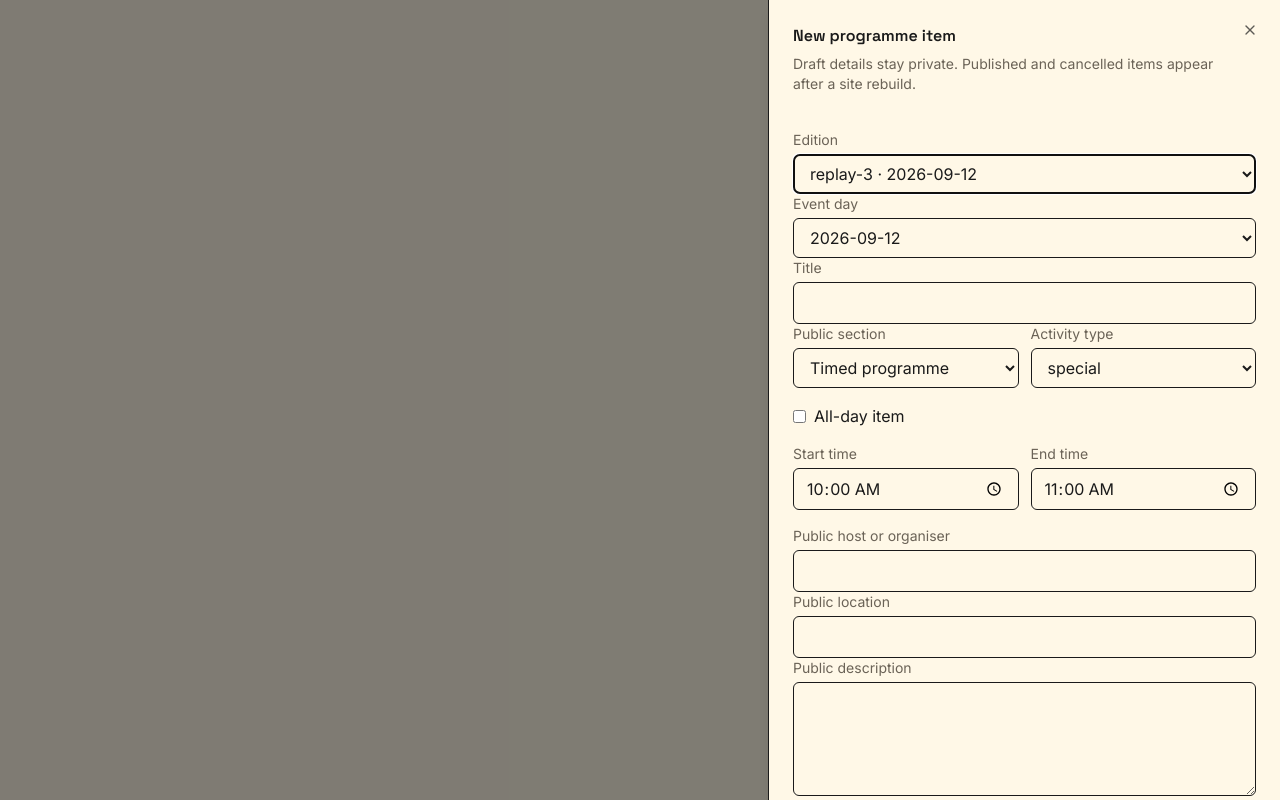
creates an all-day draft without sending fake times and offers a rebuild
The image size is (1280, 800).
In the field labelled "Title": (1024, 303) x1=793 y1=282 x2=1256 y2=324, type "Open board games"
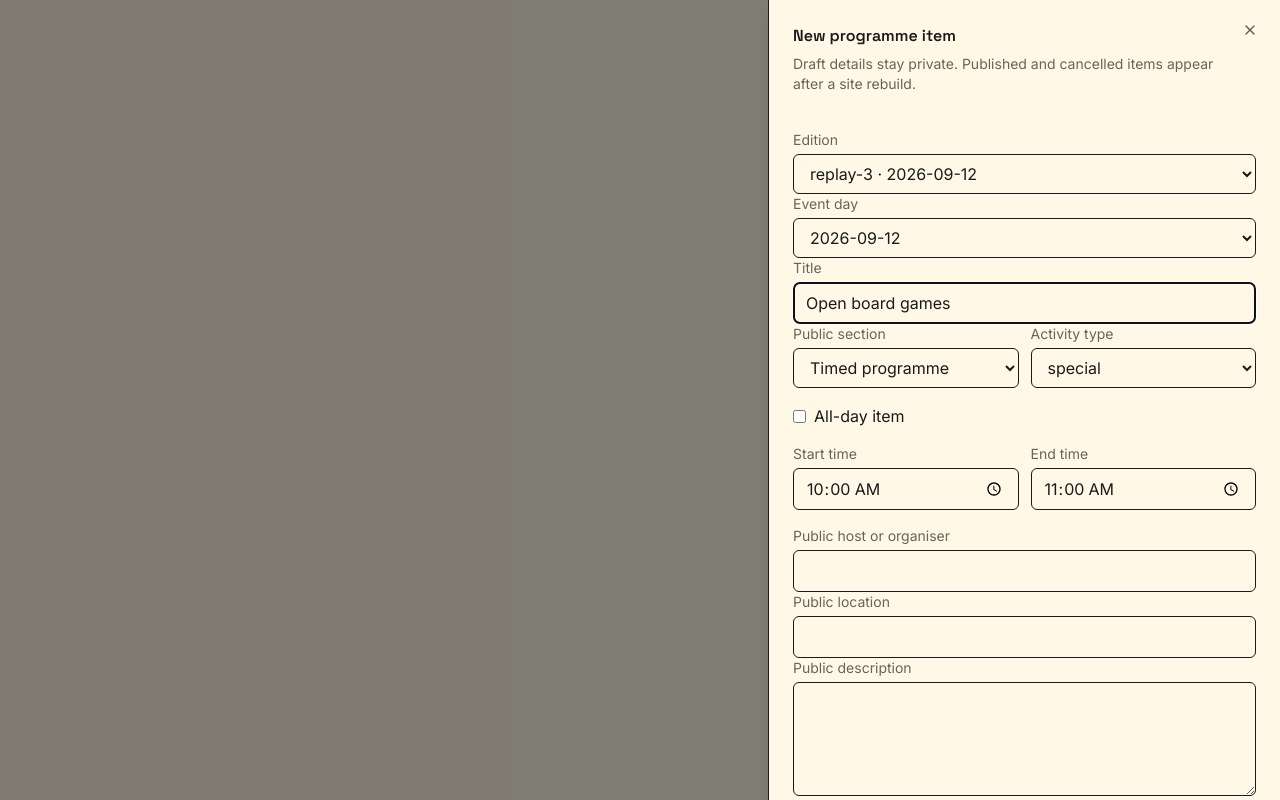
Select "Explore all day" in the dropdown labelled "Public section": (906, 368) x1=793 y1=348 x2=1018 y2=388
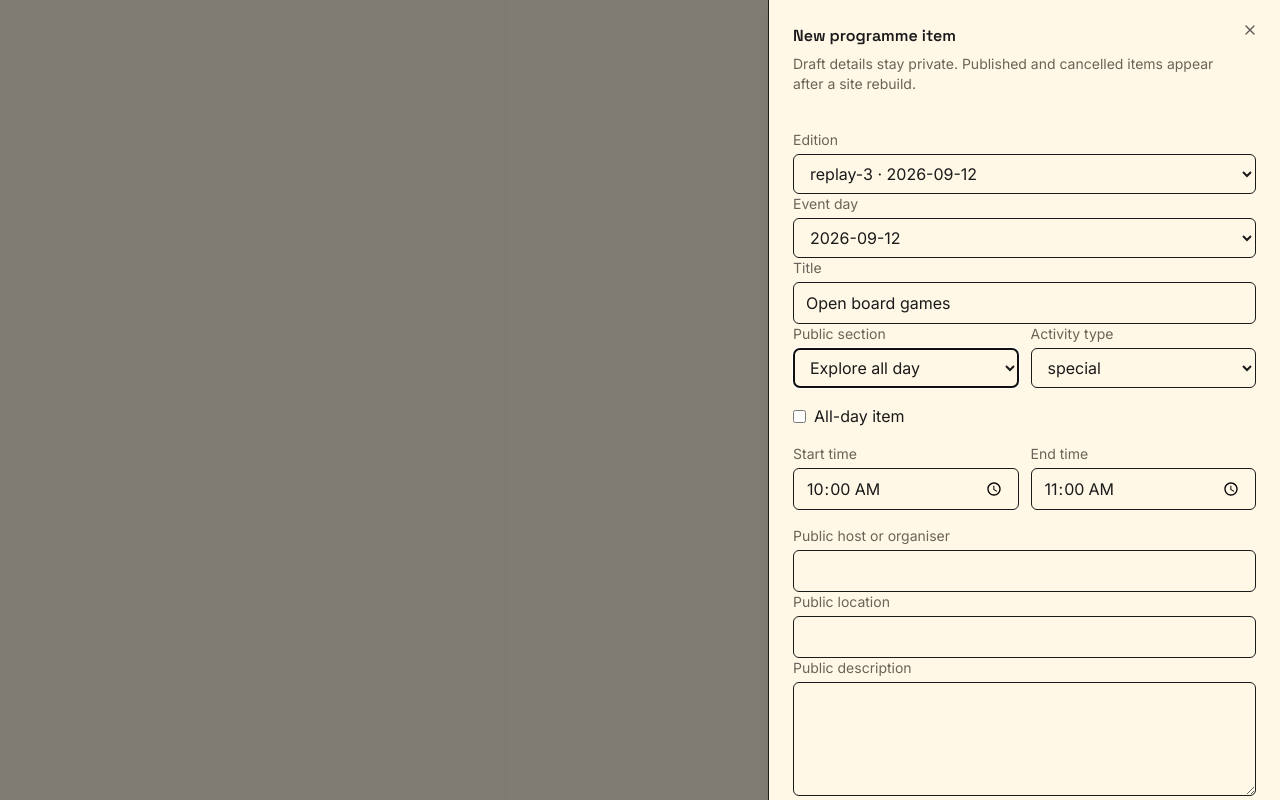
Select "open-play" in the dropdown labelled "Activity type": (1143, 368) x1=1030 y1=348 x2=1256 y2=388
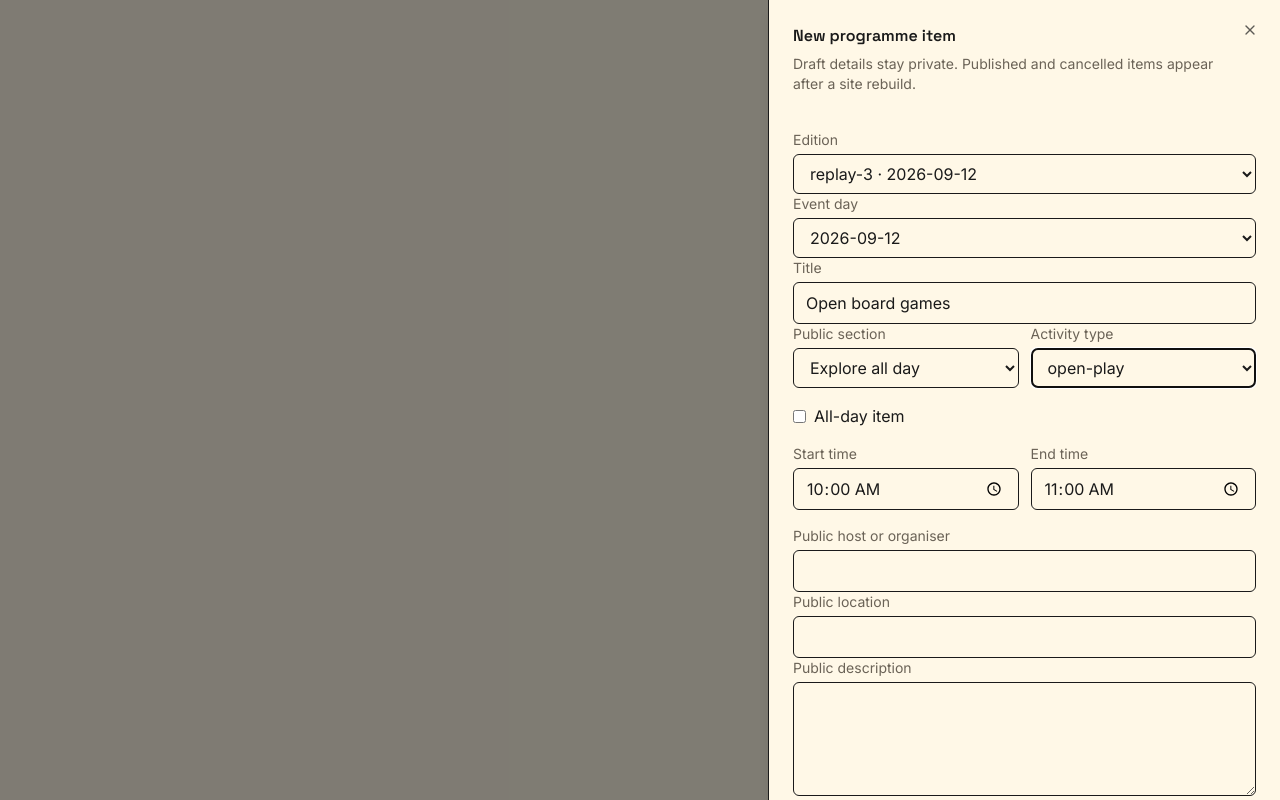
Click the checkbox labelled "All-day item": (800, 416) x1=793 y1=410 x2=806 y2=422
(page scrolled)
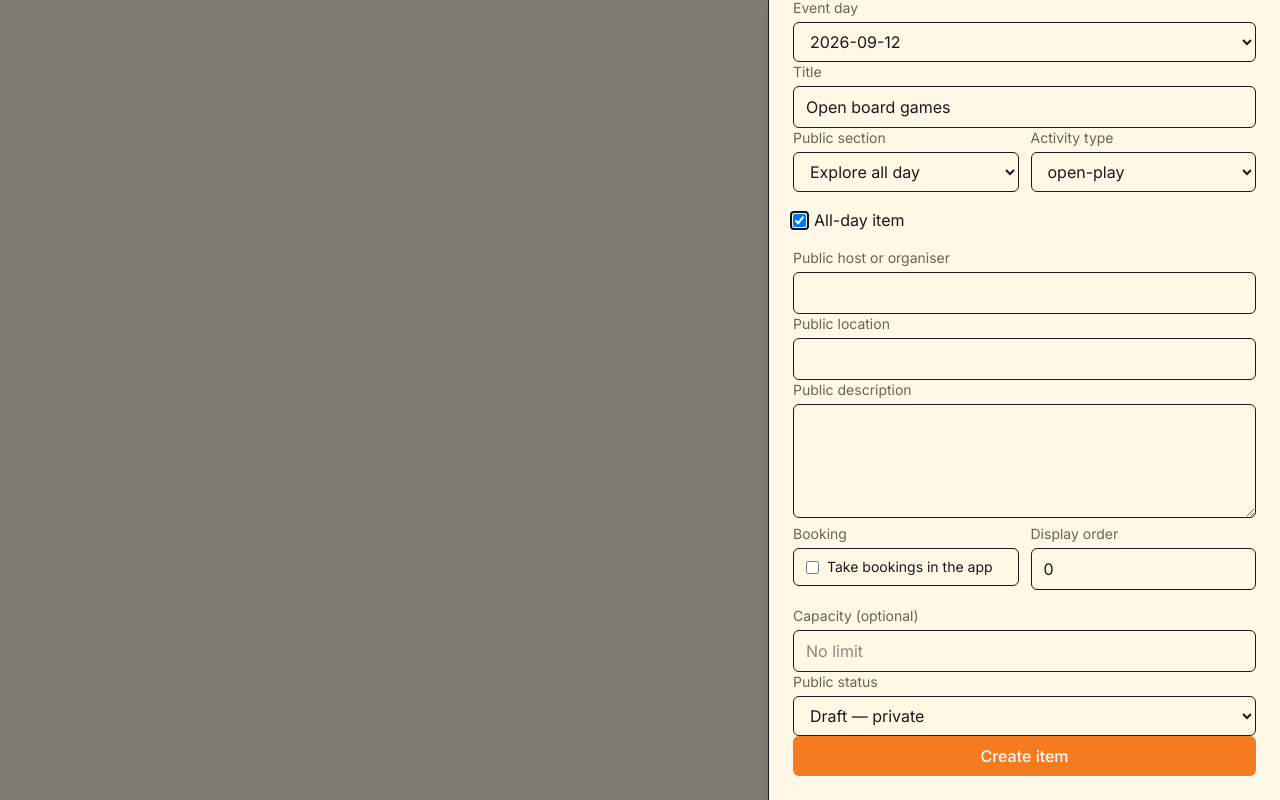
Check: the text labelled "Start time" is gone
Click the button "Create item": (1024, 756) x1=793 y1=736 x2=1256 y2=776
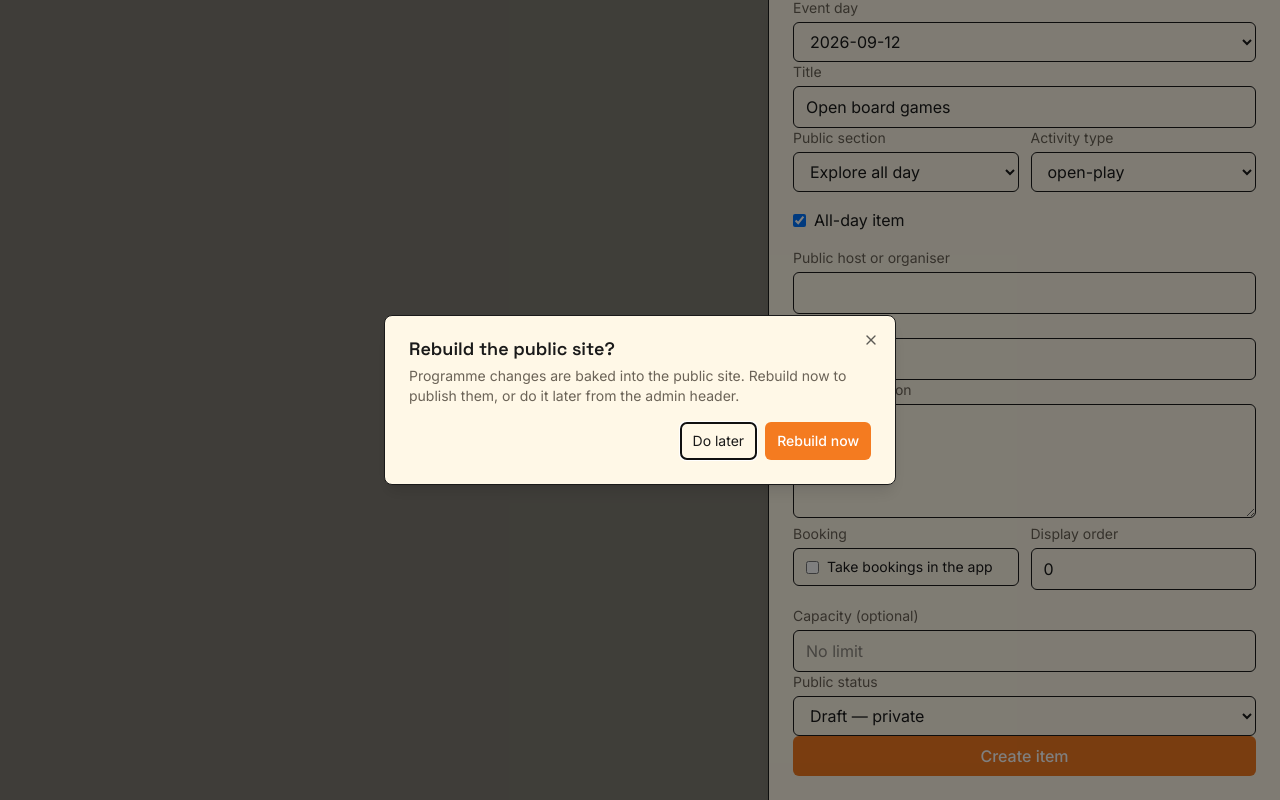
Check: the heading "Rebuild the public site?" is shown, box x1=409 y1=337 x2=615 y2=360
